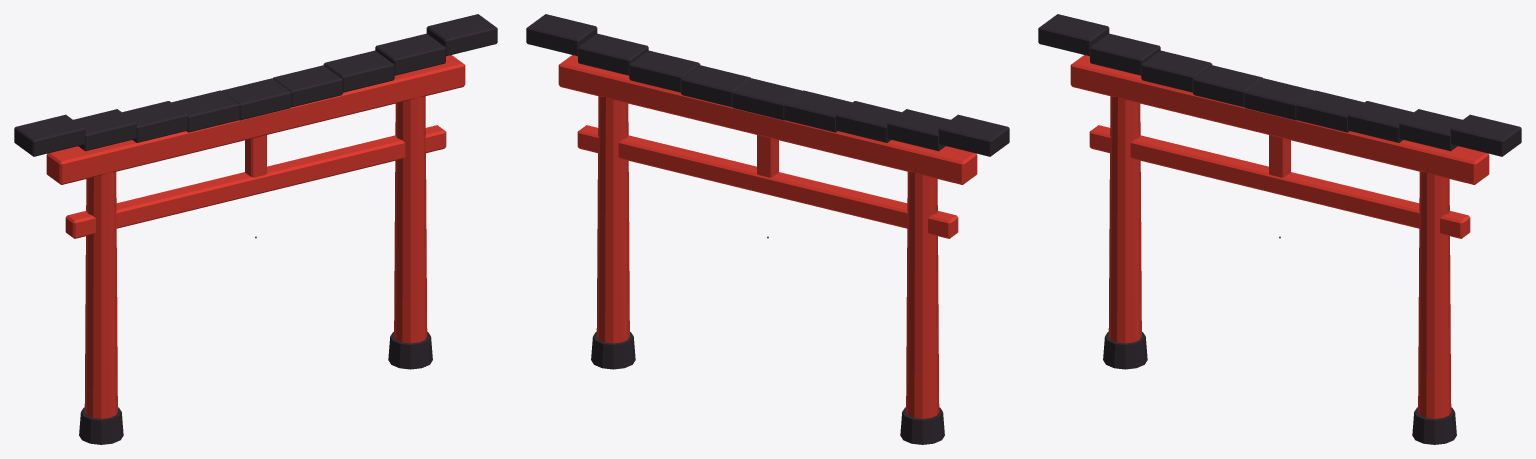
Rendered from ToriiGate.fbx.
3 renders of one model, left to right at view 1: azimuth 30°, elevation 25°; view 2: azimuth 150°, elevation 25°; view 3: azimuth 330°, elevation 25°, orthographic.
Parts seen in each view (by area): view 1: ToriiGate_Lacquer, ToriiGate_Ink; view 2: ToriiGate_Lacquer, ToriiGate_Ink; view 3: ToriiGate_Lacquer, ToriiGate_Ink.
Boxes of the visible parts, x1,y1,x2,y2 form: ToriiGate_Lacquer: [46, 55, 465, 418]; ToriiGate_Ink: [14, 14, 497, 444]; ToriiGate_Lacquer: [558, 55, 977, 418]; ToriiGate_Ink: [526, 14, 1009, 444]; ToriiGate_Lacquer: [1070, 55, 1489, 418]; ToriiGate_Ink: [1038, 14, 1521, 444].
Size of the model in its own units: 1444 by 951 by 120.
